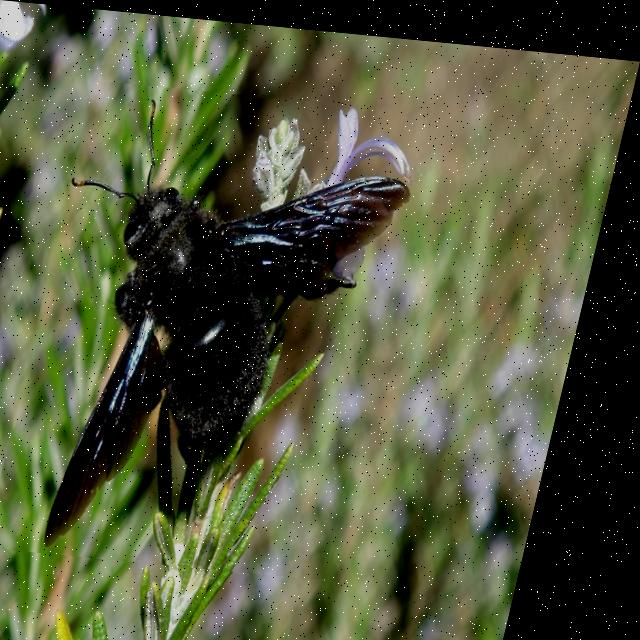Xylocopa: (10, 79, 440, 571)
